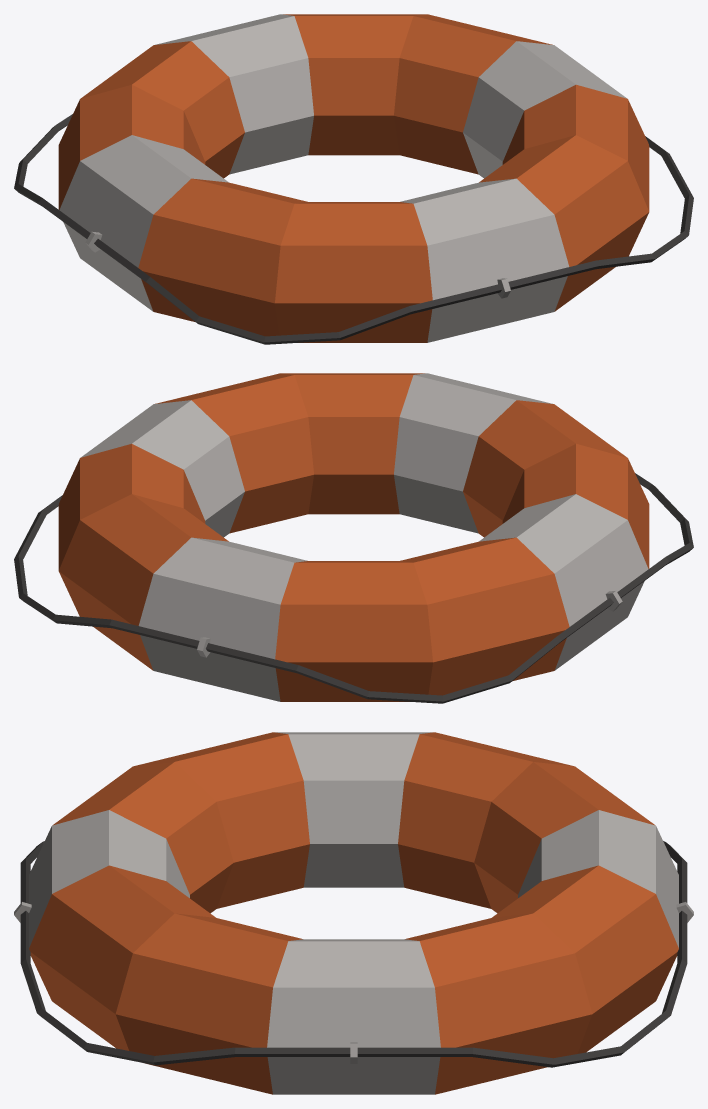
File: SM_Props_City_Beach_Lifebelt_02.fbx
3 views of the same model, one above another, from view 1: azimuth 30°, elevation 25°; view 2: azimuth 150°, elevation 25°; view 3: azimuth 270°, elevation 25° (orthographic). The views are drawn at different scales.
Parts seen in each view (by area): view 1: SM_Props_City_Beach_Lifebelt_02; view 2: SM_Props_City_Beach_Lifebelt_02; view 3: SM_Props_City_Beach_Lifebelt_02.
Boxes of the visible parts, x1,y1,x2,y2 form: SM_Props_City_Beach_Lifebelt_02: (14,14,693,344); SM_Props_City_Beach_Lifebelt_02: (14,373,693,703); SM_Props_City_Beach_Lifebelt_02: (14,732,693,1094).
Size of the model in its own units: 134 by 33 by 134.
